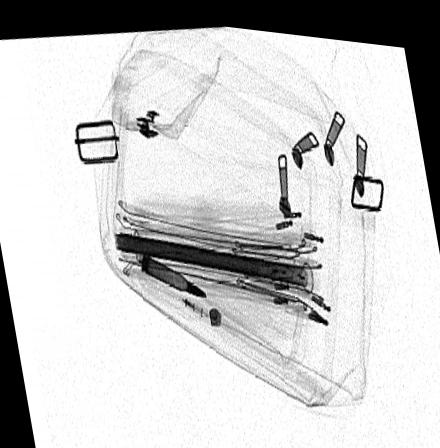Bullet: (139, 249, 208, 294)
